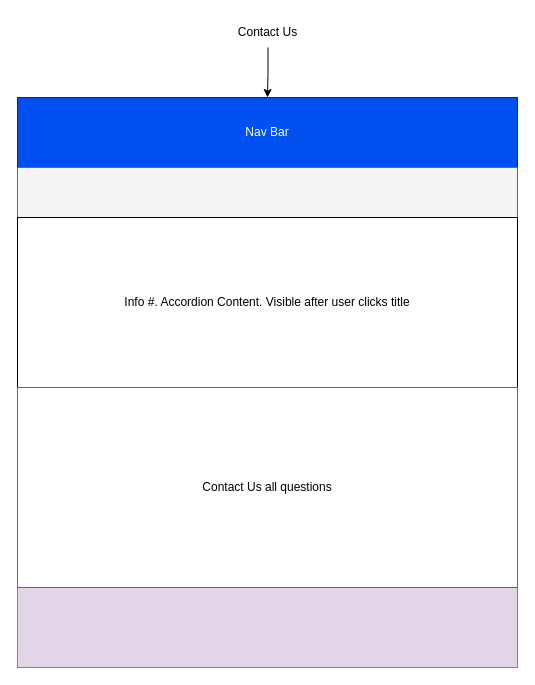
Image size: 535x685. Some labels were removed from this diagram. The centre of each missing label's shape, as x and y in pixels:
"Footer" goes at (267,627).
"Info #: Accordion title. Always Viable" goes at (267,192).
